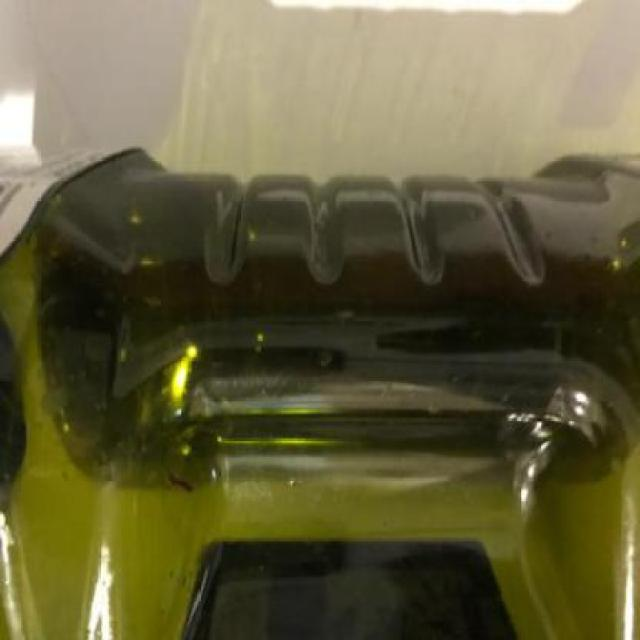PLASTIC: (0, 149, 640, 640)
